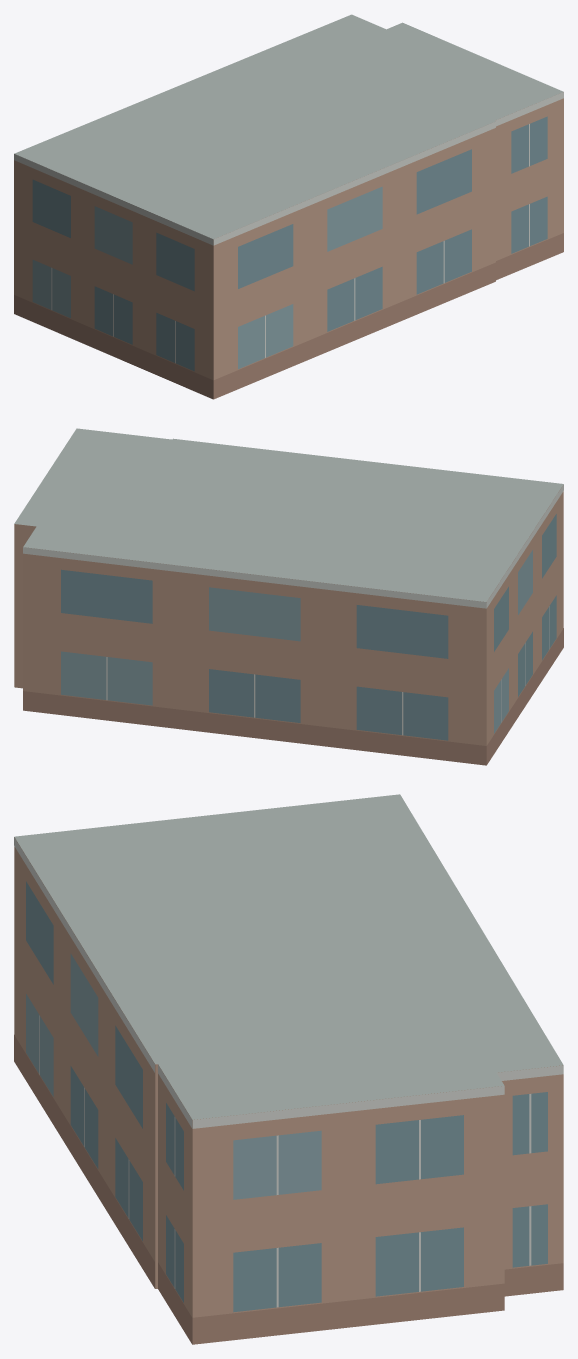
The model's file is survey-upis-32829002.glb.
3 renders of one model, top to bottom at view 1: azimuth 30°, elevation 25°; view 2: azimuth 150°, elevation 25°; view 3: azimuth 270°, elevation 25°, orthographic. The views are drawn at different scales.
Visible parts, largest first — view 1: survey-upis-32829002.tmp; view 2: survey-upis-32829002.tmp; view 3: survey-upis-32829002.tmp.
Boxes of the visible parts, x1,y1,x2,y2 form: survey-upis-32829002.tmp: (14,14,563,399); survey-upis-32829002.tmp: (14,428,563,765); survey-upis-32829002.tmp: (14,794,563,1344).
Bounding box in the file's own units: 18.97 × 6.1 × 13.53.
